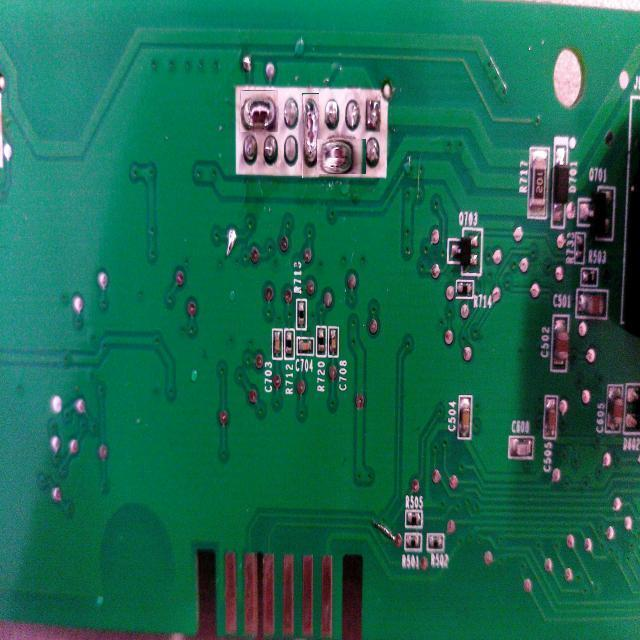Short_circuit: (321, 135, 363, 178), (240, 90, 278, 132), (302, 93, 319, 178)
